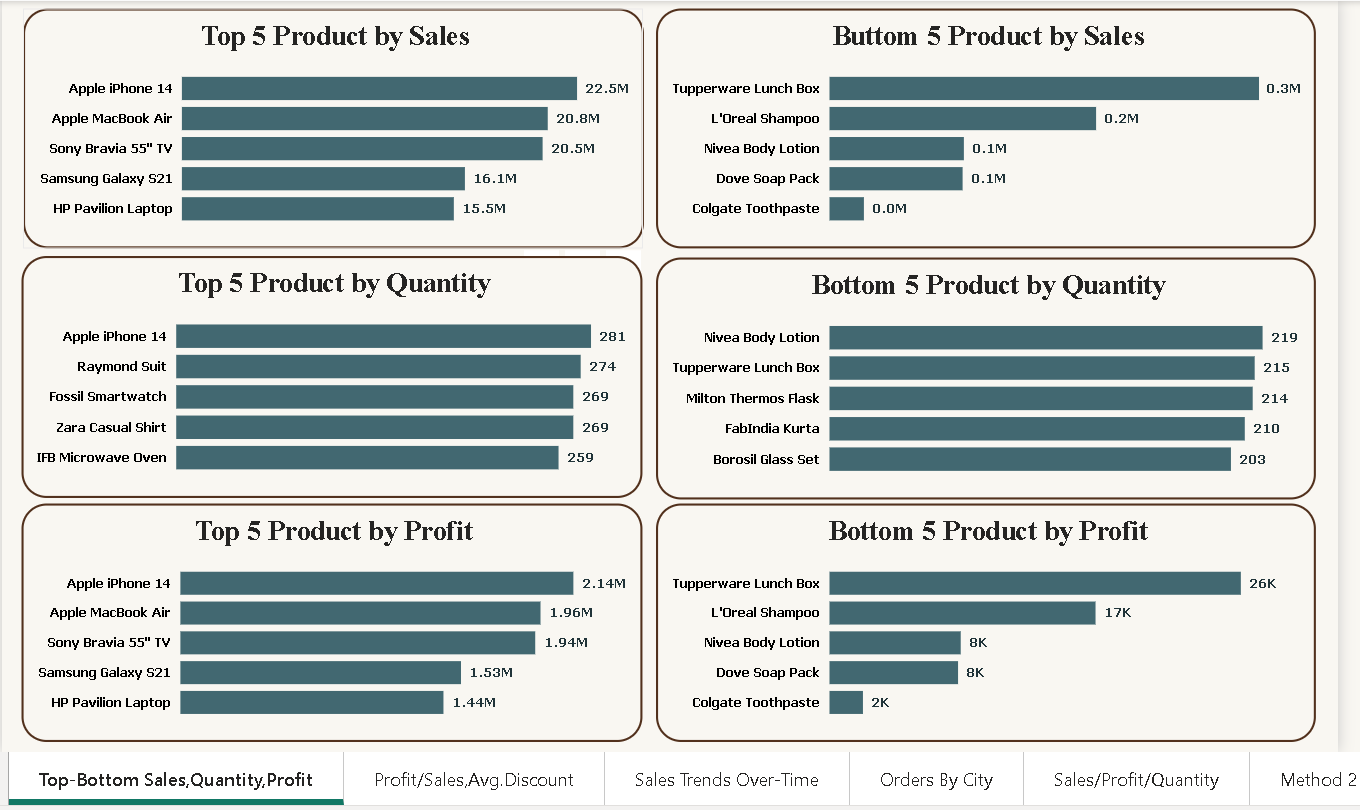

What the dashboard file says about the page in this screenshot:
{"tool":"powerbi","page":{"name":"Top-Bottom Sales,Quantity,Profit","canvas":[1280,720],"ordinal":0},"visuals":[{"type":"clusteredBarChart","title":"Top 5 Product by Sales","fields":{"Category":["Dim Product.Product Name"],"Y":["Sum(Fact Table.Total Sales)"]},"box":[19.7,7.6,595.1,230.2],"z":0},{"type":"clusteredBarChart","title":"Buttom 5 Product by Sales","fields":{"Category":["Dim Product.Product Name"],"Y":["Sum(Fact Table.Total Sales)"]},"box":[626.9,7.6,632.9,230.2],"z":1000},{"type":"clusteredBarChart","title":"Top 5 Product by Quantity","fields":{"Category":["Dim Product.Product Name"],"Y":["Sum(Fact Table.Units Sold)"]},"box":[18.2,243.8,595.1,231.7],"z":2000},{"type":"clusteredBarChart","title":"Bottom 5 Product by Quantity","fields":{"Category":["Dim Product.Product Name"],"Y":["Sum(Fact Table.Units Sold)"]},"box":[626.9,245.3,632.9,231.7],"z":3000},{"type":"clusteredBarChart","title":"Top 5 Product by Profit","fields":{"Y":["Sum(Fact Table.Profit)"],"Category":["Dim Product.Product Name"]},"box":[18.2,481.5,595.1,228.6],"z":4000},{"type":"clusteredBarChart","title":"Bottom 5 Product by Profit","fields":{"Y":["Sum(Fact Table.Profit)"],"Category":["Dim Product.Product Name"]},"box":[626.9,481.5,632.9,228.6],"z":5000}]}

Visuals, with their boxes on the page's 1280x720 design canvas (x1, y1, x2, y2). These are canvas units, not pixel positions in the 1360x810 screenshot, which may show the page scaled, cropped or inside an application window:
"Top 5 Product by Sales" clusteredBarChart: rect(20, 8, 615, 238)
"Buttom 5 Product by Sales" clusteredBarChart: rect(627, 8, 1260, 238)
"Top 5 Product by Quantity" clusteredBarChart: rect(18, 244, 613, 476)
"Bottom 5 Product by Quantity" clusteredBarChart: rect(627, 245, 1260, 477)
"Top 5 Product by Profit" clusteredBarChart: rect(18, 482, 613, 710)
"Bottom 5 Product by Profit" clusteredBarChart: rect(627, 482, 1260, 710)
